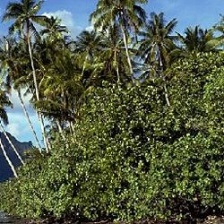neutral: (1, 2, 223, 222)
